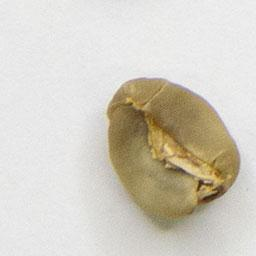premium: (102, 73, 245, 225)
